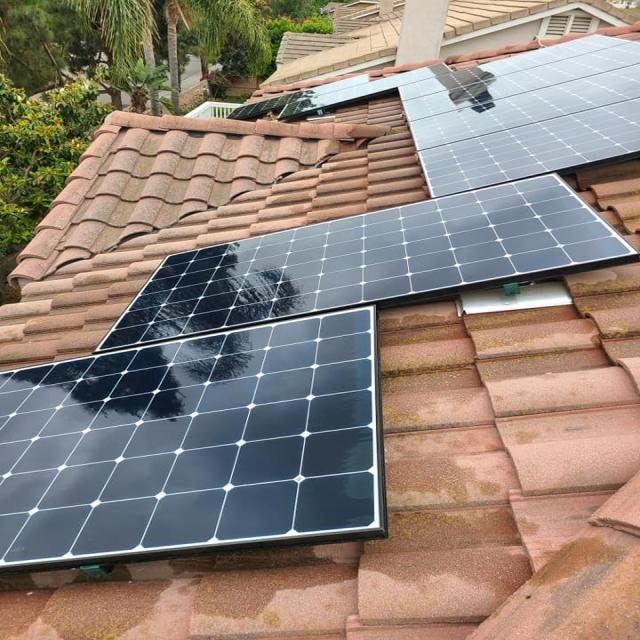clean-solar-panel: (2, 306, 383, 570), (98, 175, 637, 351), (400, 35, 638, 196)
